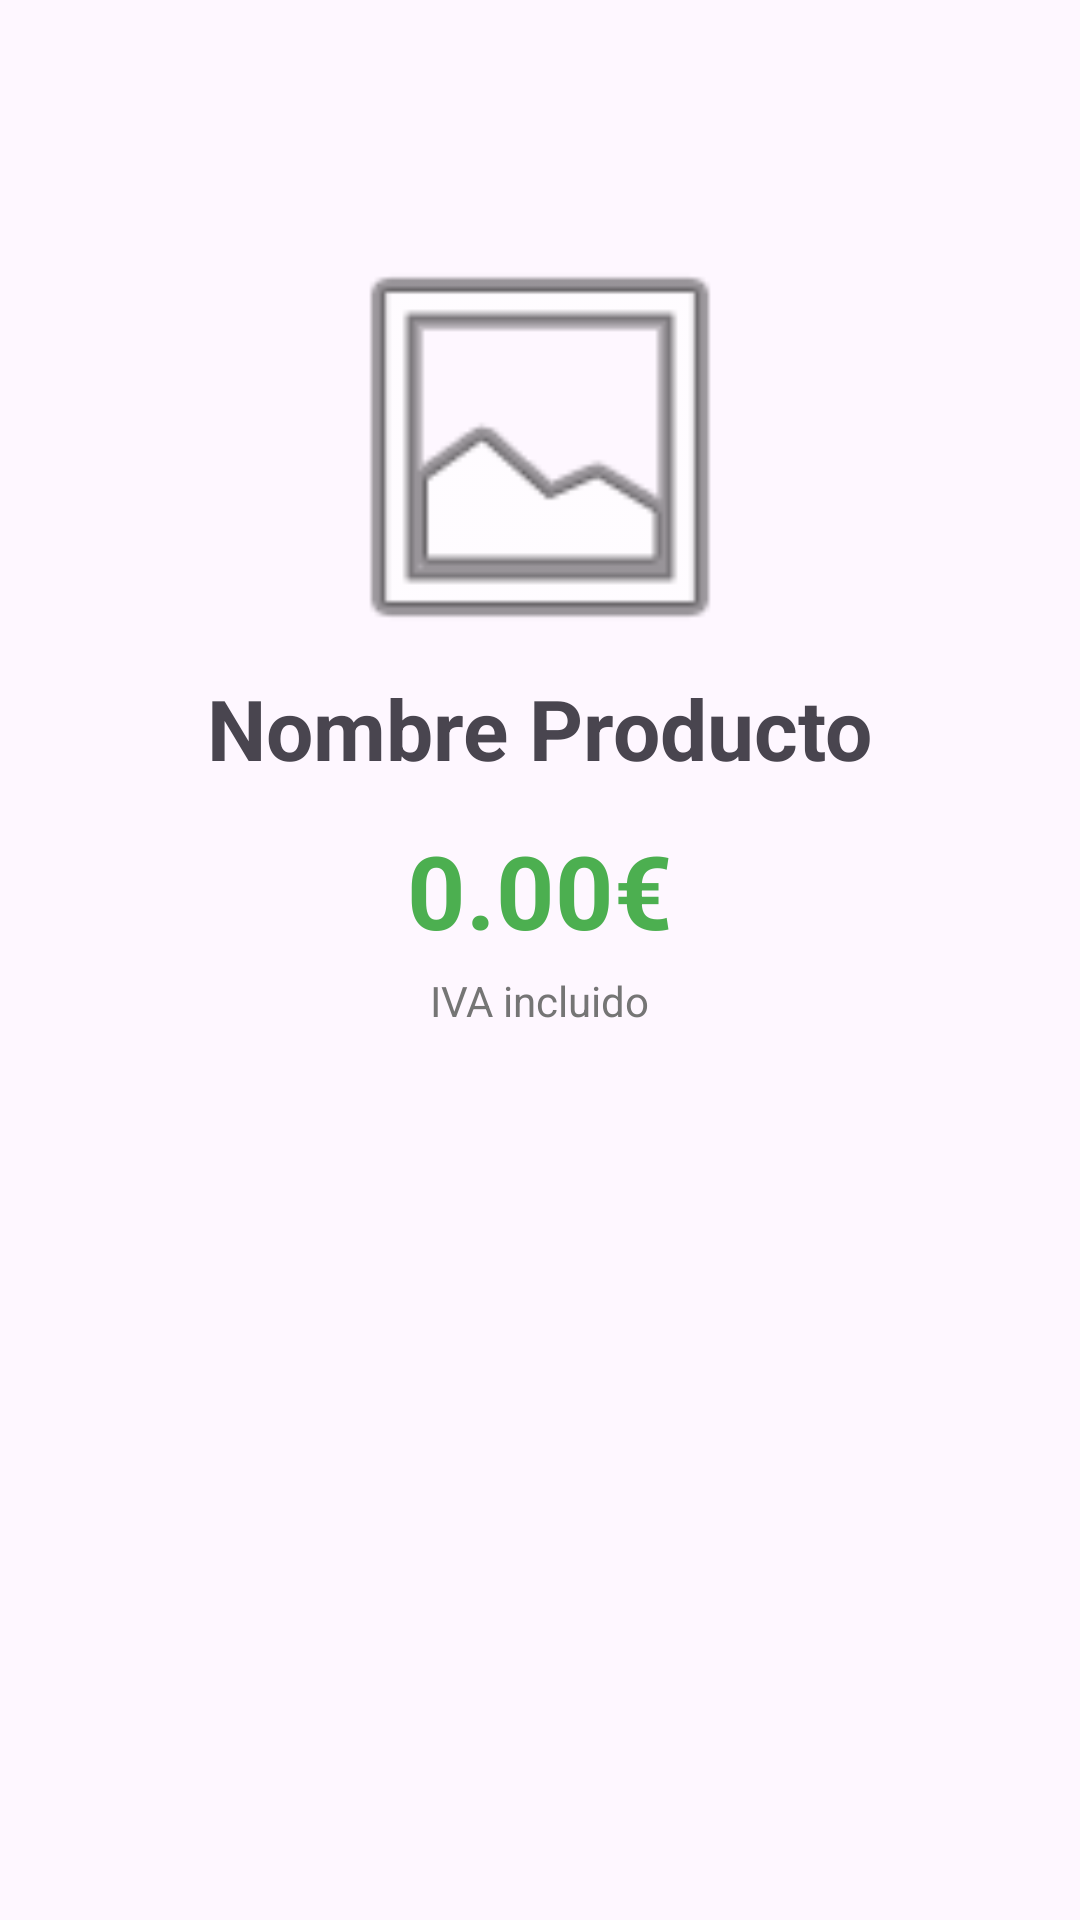

Locate icon controls on the screen. Image size 1080w x 1920h, boxes as bbox=[x1, y1, x2, y2].
gallery: bbox=[370, 277, 710, 617]
